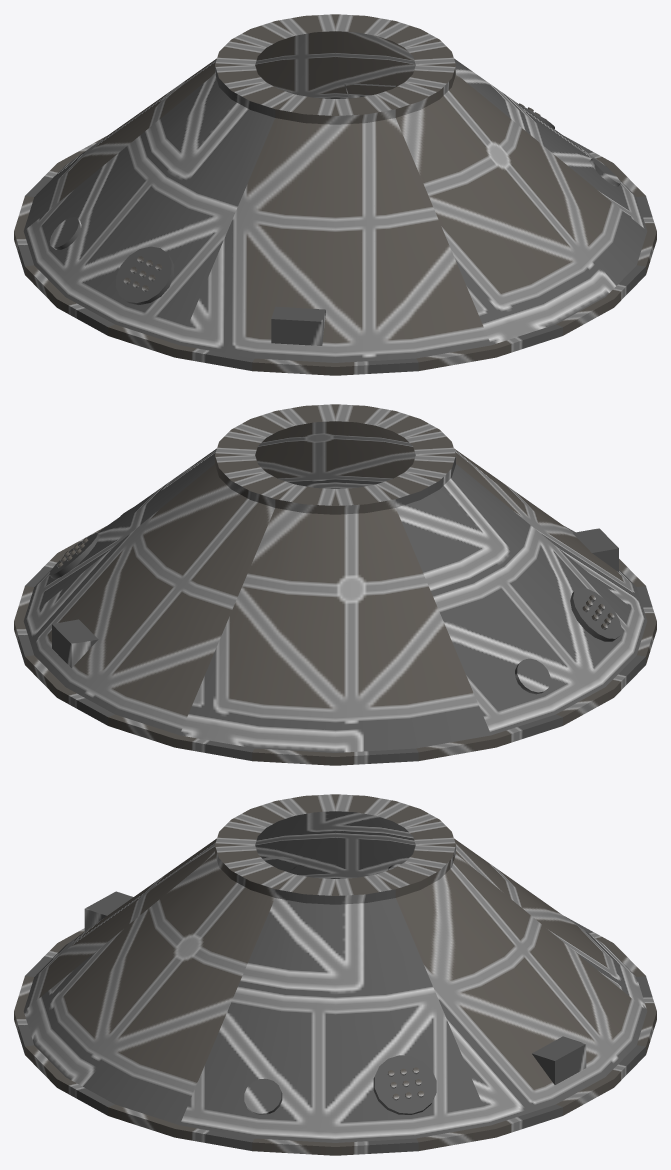
Rendered from big narrow adapter naked.obj.
3 renders of one model, top to bottom at view 1: azimuth 30°, elevation 25°; view 2: azimuth 150°, elevation 25°; view 3: azimuth 270°, elevation 25°, orthographic.
Visible parts, largest first — view 1: 1; view 2: 1; view 3: 1.
Part boxes in pixels (x1,y1,x2,y2): 1: [14, 14, 656, 375]; 1: [14, 404, 656, 765]; 1: [14, 794, 656, 1155].
Bounding box in the file's own units: 2.5 × 0.75 × 2.5.
